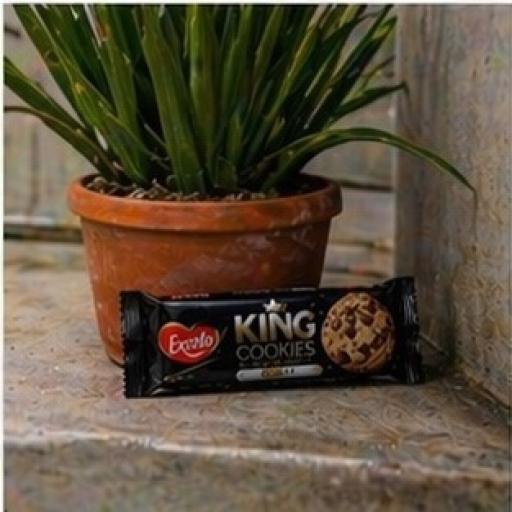king_cooking: (52, 209, 475, 425)
